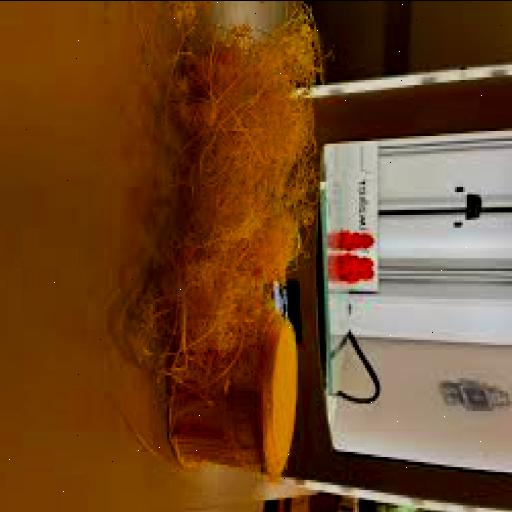spaghetti: (138, 76, 296, 374)
